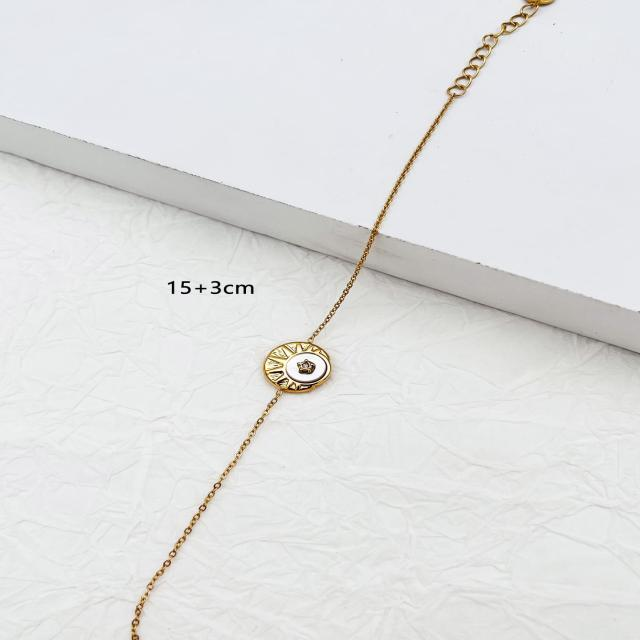bracelet: (87, 1, 556, 640)
